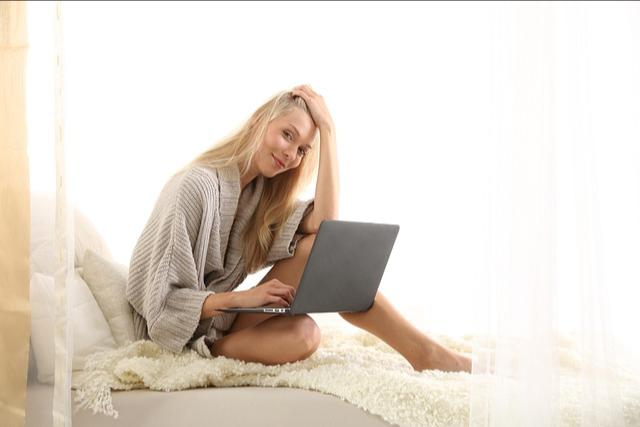Non_Gorille: (53, 7, 500, 427)
